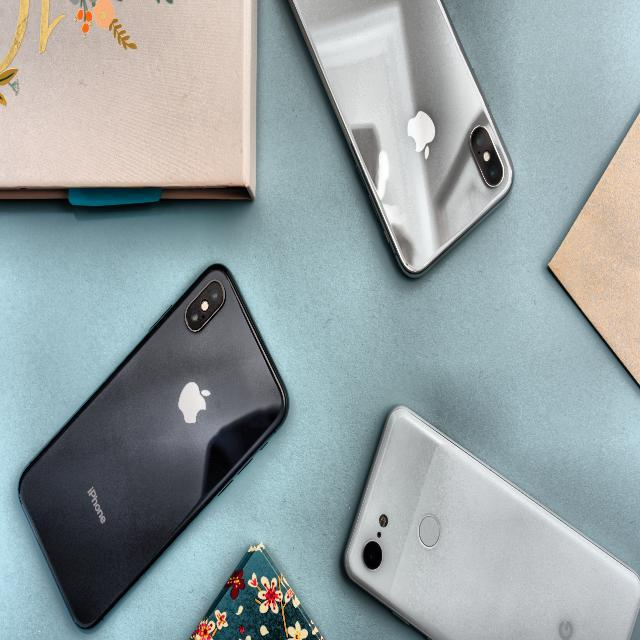Phone: (15, 253, 294, 636), (337, 397, 640, 640), (280, 0, 515, 285)
